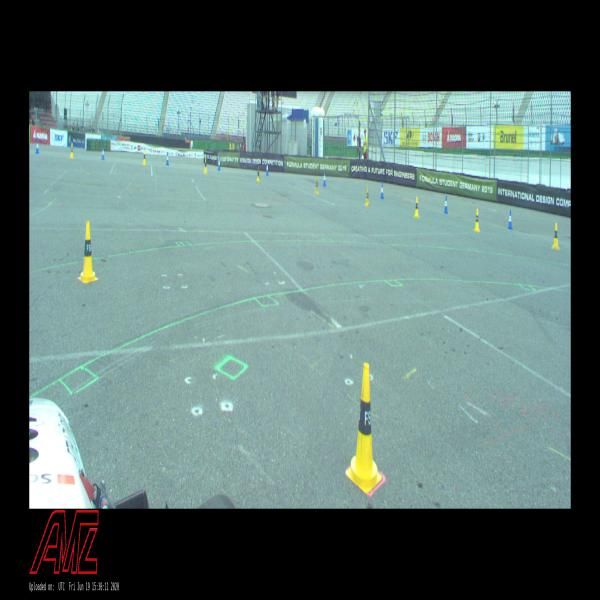blue_cone: (508, 210, 512, 230), (444, 196, 448, 214), (380, 183, 384, 199), (166, 152, 170, 165), (323, 171, 326, 186), (36, 140, 39, 154), (266, 162, 269, 176), (218, 157, 221, 170), (102, 147, 105, 160)
yellow_cone: (346, 363, 382, 493), (79, 221, 98, 284), (552, 223, 559, 249), (474, 208, 481, 232), (414, 196, 420, 218), (365, 186, 370, 206), (314, 177, 318, 194), (204, 157, 208, 174), (70, 142, 74, 159), (256, 167, 260, 183), (143, 150, 146, 166)
